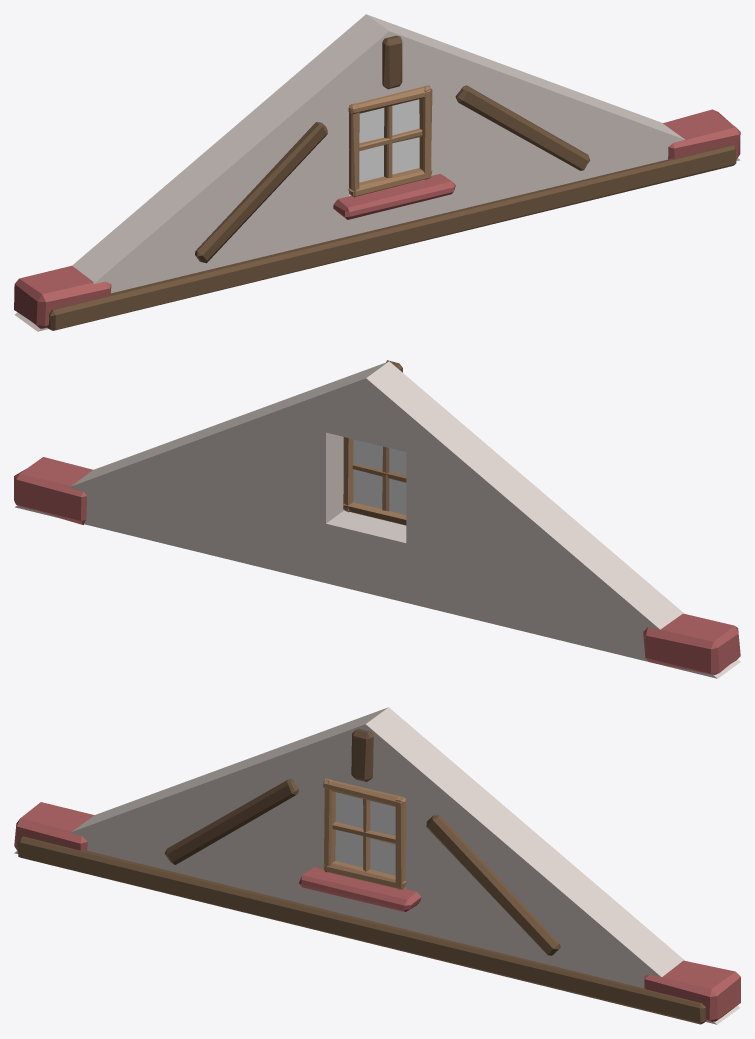
File: PKX_Gable_4m_Window.fbx
The picture shows the model from 3 angles, top to bottom: view 1: azimuth 30°, elevation 25°; view 2: azimuth 150°, elevation 25°; view 3: azimuth 330°, elevation 25°; orthographic projection.
Parts seen in each view (by area): view 1: PKX_Gable_4m_Window; view 2: PKX_Gable_4m_Window; view 3: PKX_Gable_4m_Window.
Part boxes in pixels (x1,y1,x2,y2): PKX_Gable_4m_Window: [14, 14, 740, 331]; PKX_Gable_4m_Window: [14, 360, 740, 678]; PKX_Gable_4m_Window: [14, 707, 740, 1024].
Bounding box in the file's own units: 421 × 123 × 40.64.
